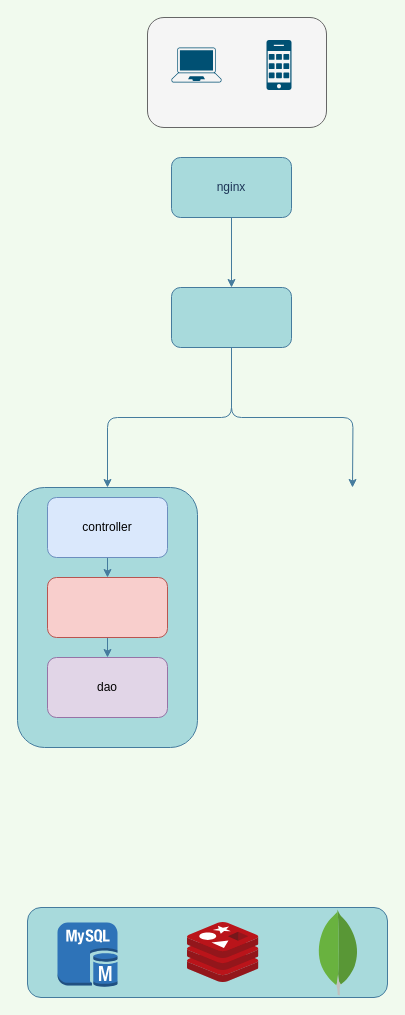
Image size: 405x1015. Some labels were removed from this diagram. The shapes that lost their labels are listed below. From the top down, each one's centre as x and y in pixels, then its label:
[231,317]: gateway
[107,607]: service
